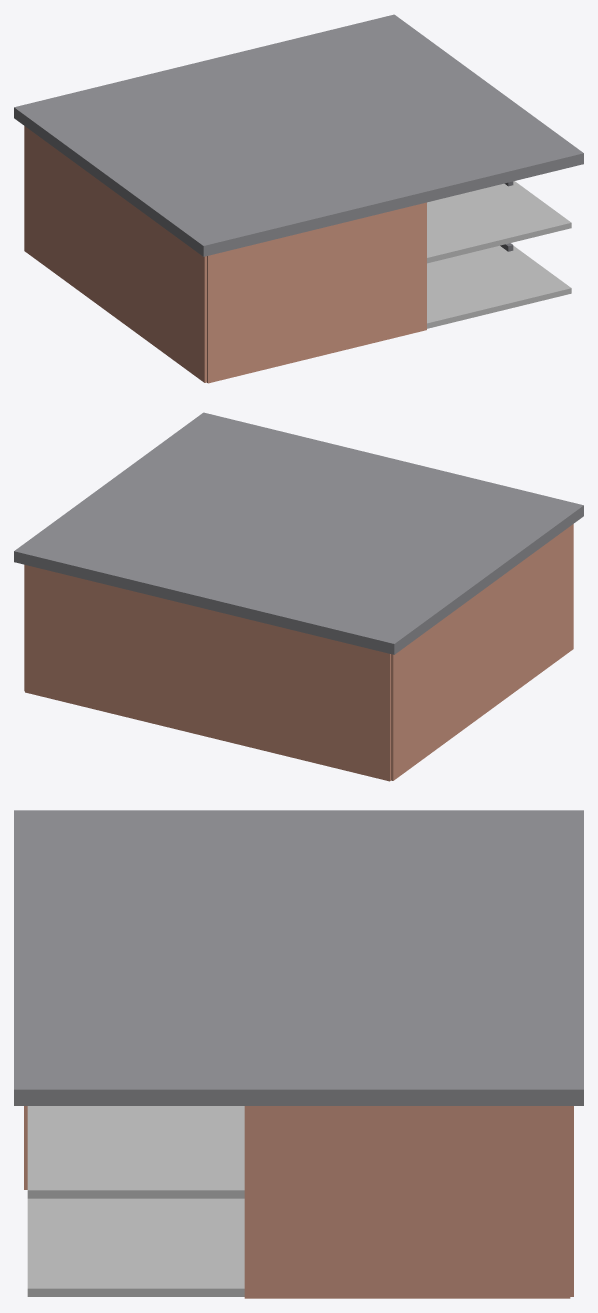
The picture shows the model from 3 angles, top to bottom: view 1: azimuth 30°, elevation 25°; view 2: azimuth 150°, elevation 25°; view 3: azimuth 270°, elevation 25°; orthographic projection. The views are drawn at different scales.
Size of the model in its own units: 7.3 by 2.6 by 6.3.
